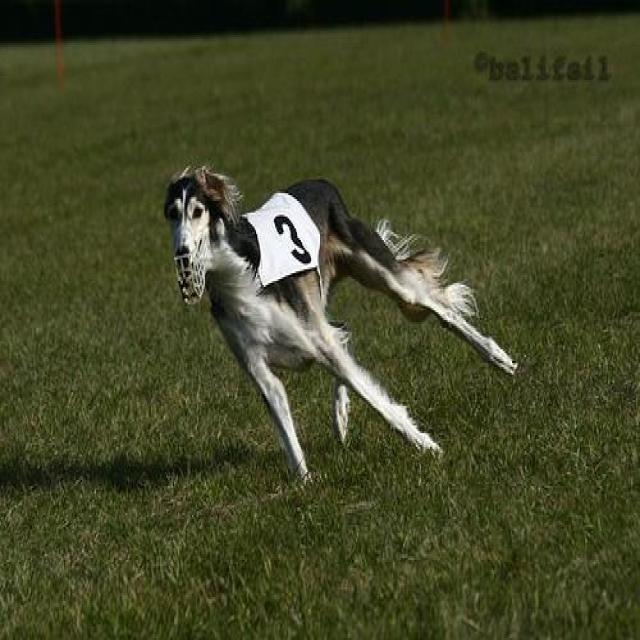saluki: (163, 168, 521, 482)
